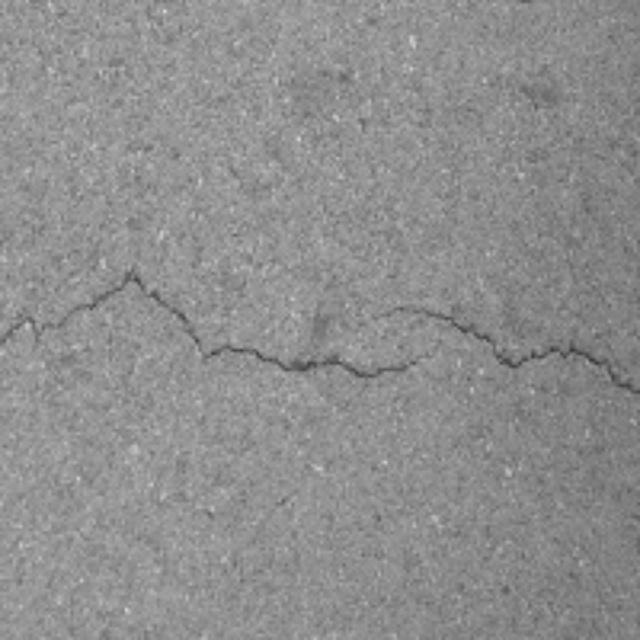Crack: (22, 229, 634, 437)
